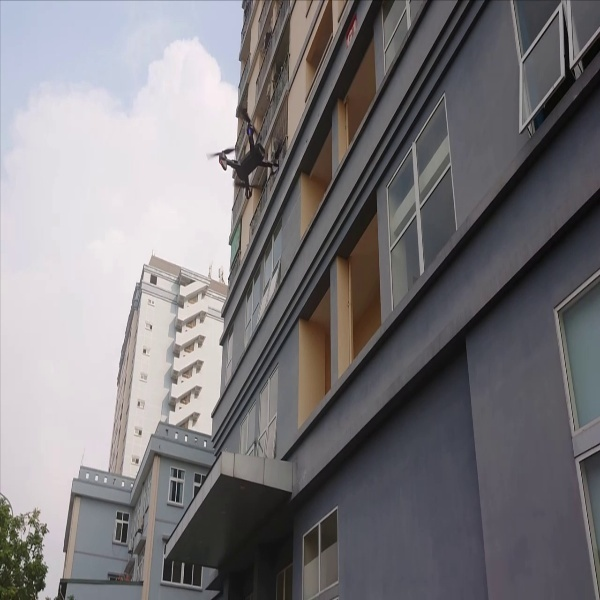drone: (212, 118, 283, 200)
